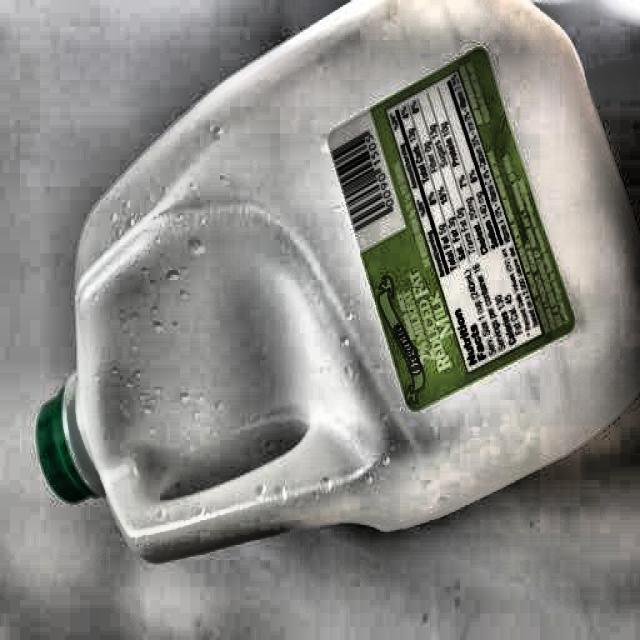plastic: (34, 0, 640, 565)
